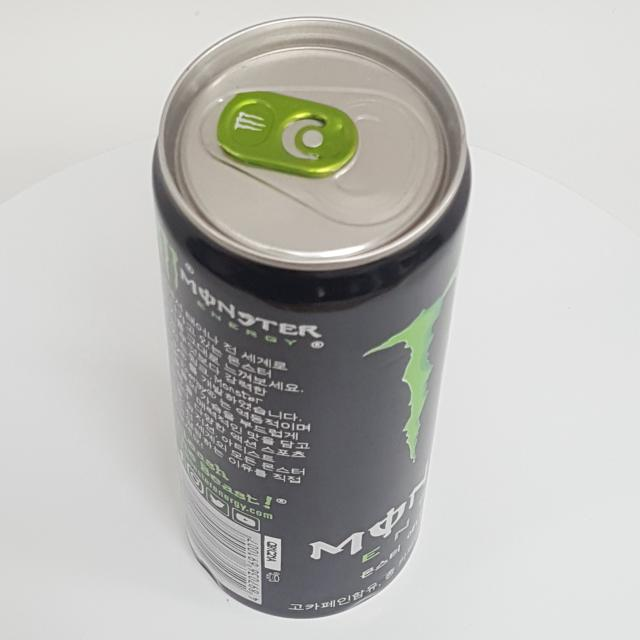--------355ML: (153, 16, 471, 618)
